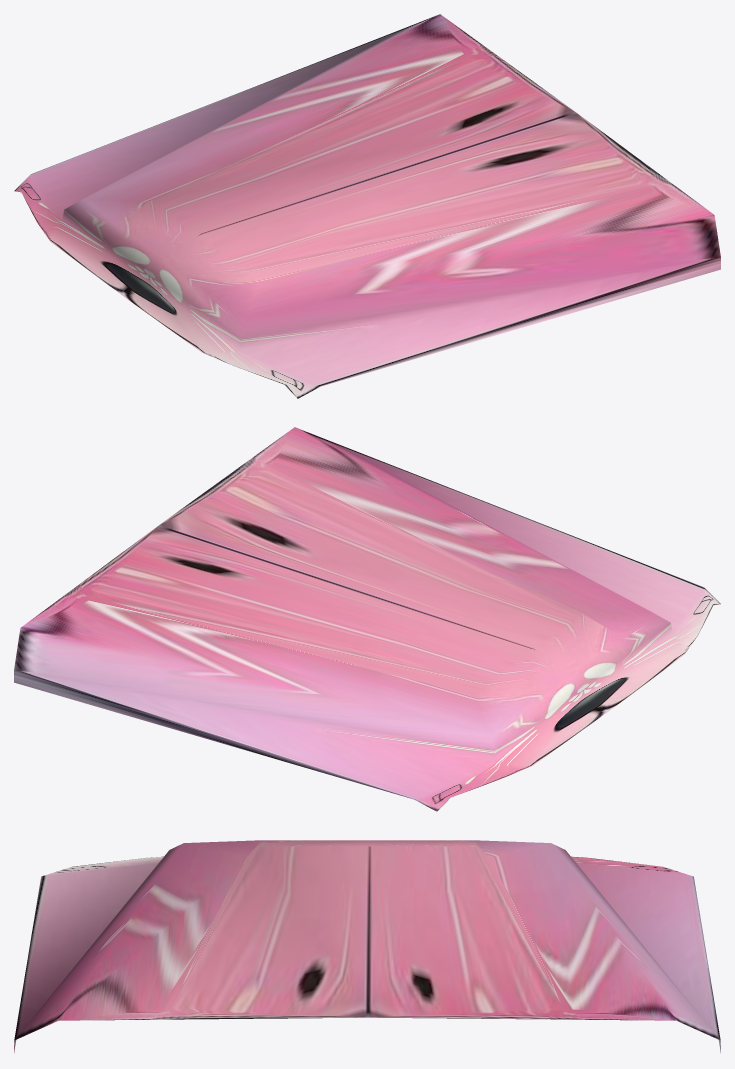
File: cofre.fbx
3 renders of one model, top to bottom at view 1: azimuth 30°, elevation 25°; view 2: azimuth 150°, elevation 25°; view 3: azimuth 270°, elevation 25°, orthographic. The views are drawn at different scales.
Visible parts, largest first — view 1: Cofre; view 2: Cofre; view 3: Cofre.
Boxes of the visible parts, x1=… form: Cofre: x1=14, y1=14, x2=720, y2=398; Cofre: x1=14, y1=427, x2=720, y2=811; Cofre: x1=14, y1=840, x2=720, y2=1053.
Size of the model in its own units: 11.67 by 1.96 by 14.
